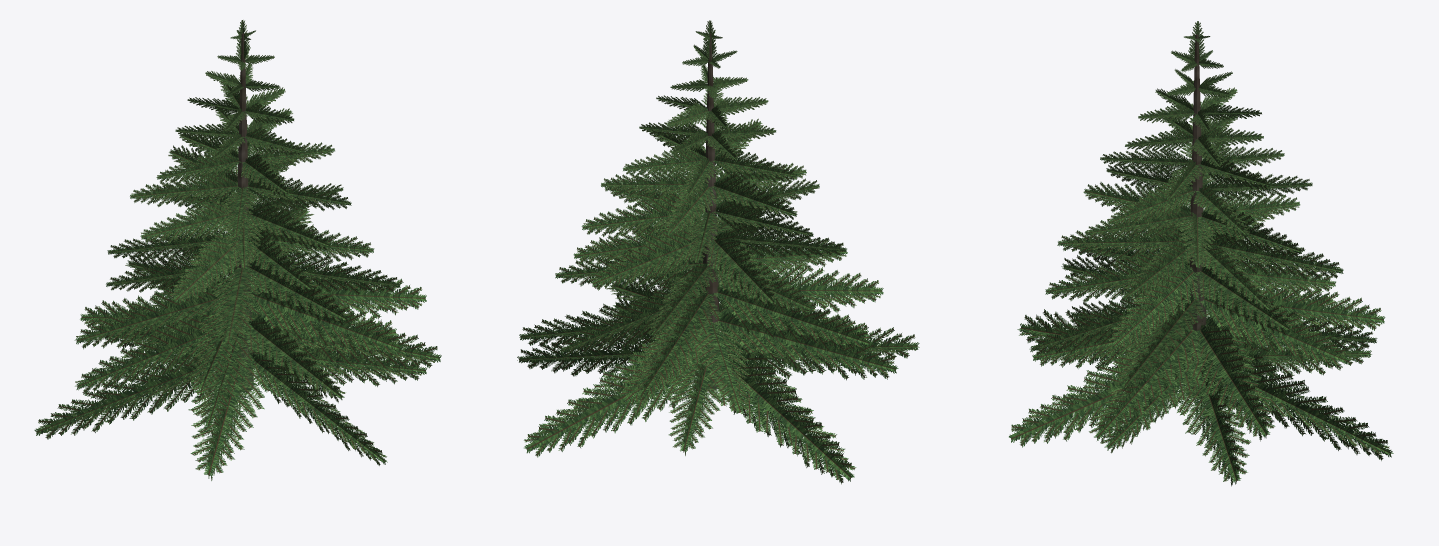
The model's file is fir_b.glb.
3 views of the same model, side by side, from view 1: azimuth 30°, elevation 25°; view 2: azimuth 150°, elevation 25°; view 3: azimuth 270°, elevation 25° (orthographic).
Visible parts, largest first — view 1: needles, trunk; view 2: needles, trunk; view 3: needles, trunk.
Boxes of the visible parts, left/top/right/bottom form: needles: left=34, top=20, right=441, bottom=480; trunk: left=235, top=33, right=253, bottom=392; needles: left=517, top=20, right=919, bottom=484; trunk: left=702, top=33, right=720, bottom=389; needles: left=1009, top=21, right=1393, bottom=486; trunk: left=1186, top=34, right=1206, bottom=398.
Bounding box in the file's own units: 1.11 × 1.25 × 1.11.
2 materials, 2 textured.
